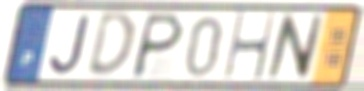0: (183, 14, 227, 79)
D: (83, 10, 137, 81)
H: (222, 11, 278, 83)
J: (47, 13, 93, 77)
N: (264, 13, 327, 82)
P: (127, 10, 187, 81)
